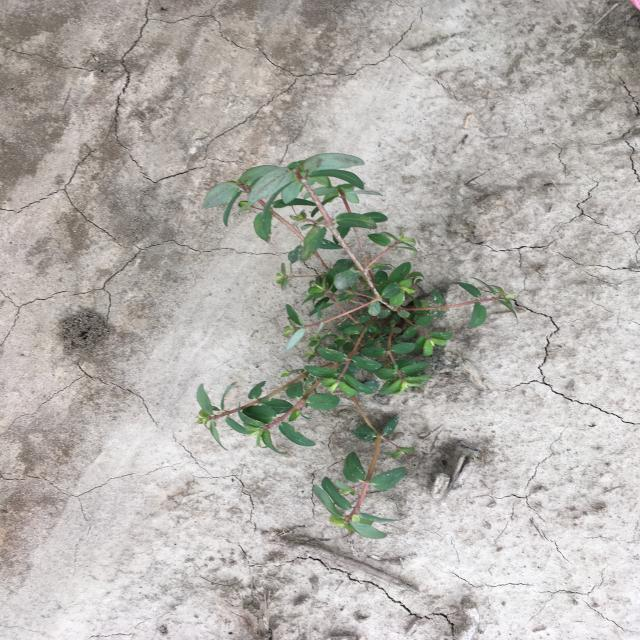SpottedSpurge: (196, 153, 519, 539)
